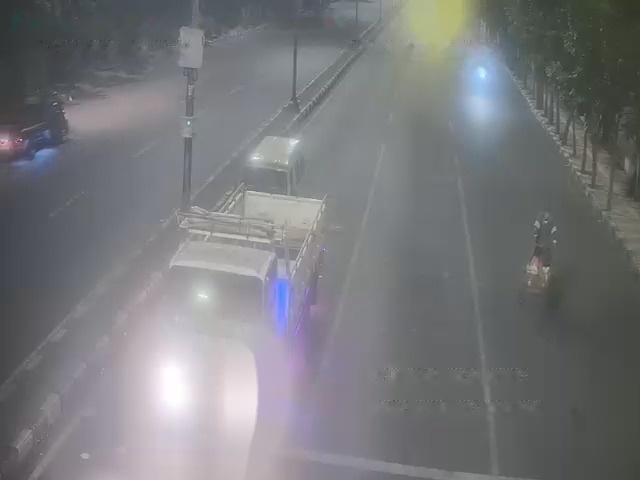Mobil: (0, 100, 68, 161), (241, 131, 304, 196)
Truk: (161, 181, 327, 421)
